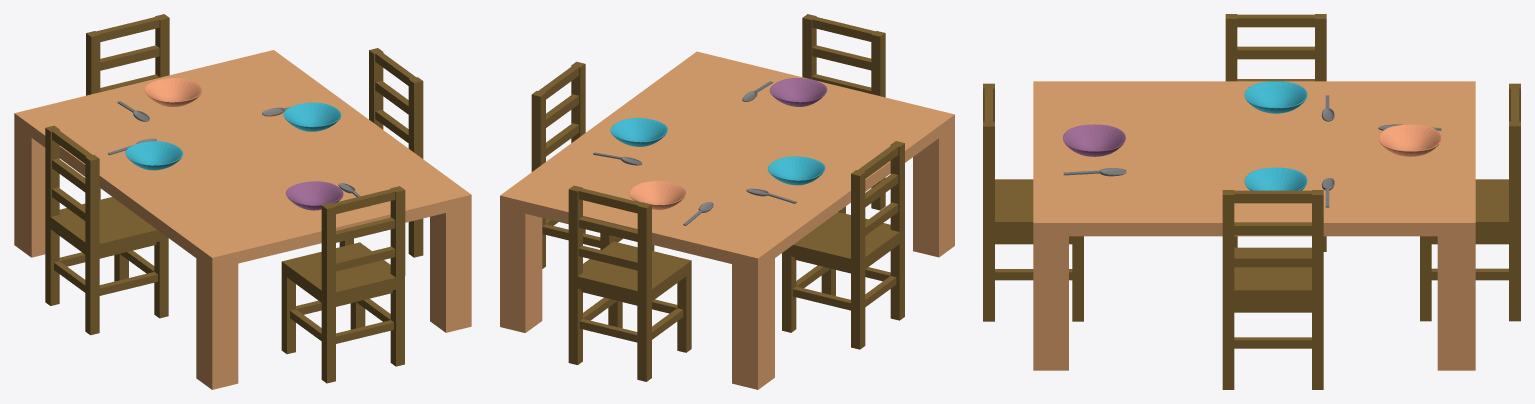
The model's file is comedor.glb.
The picture shows the model from 3 angles, left to right: view 1: azimuth 30°, elevation 25°; view 2: azimuth 150°, elevation 25°; view 3: azimuth 270°, elevation 25°; orthographic projection. The views are drawn at different scales.
Parts seen in each view (by area): view 1: Cube; view 2: Cube; view 3: Cube.
Boxes of the visible parts, x1=… form: Cube: x1=14, y1=14, x2=471, y2=389; Cube: x1=500, y1=14, x2=954, y2=389; Cube: x1=983, y1=14, x2=1520, y2=389.
Bounding box in the file's own units: 5.8 × 2.92 × 7.29.
